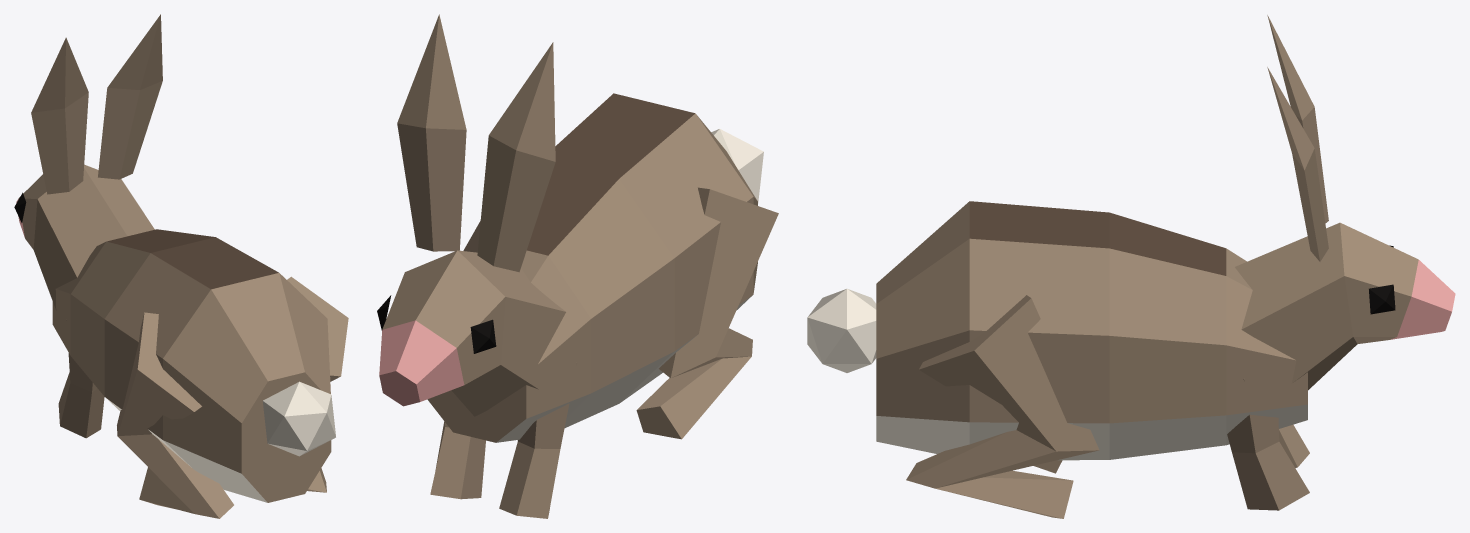
File: rabbit.glb
3 views of the same model, side by side, from view 1: azimuth 30°, elevation 25°; view 2: azimuth 150°, elevation 25°; view 3: azimuth 270°, elevation 25° (orthographic). The views are drawn at different scales.
Parts seen in each view (by area): view 1: Body, Leg_BL, Head, Ear_L, Ear_R, Tail, Leg_FL, Leg_BR; view 2: Body, Head, Leg_BL, Ear_L, Ear_R, Leg_FL, Leg_FR, Tail; view 3: Body, Head, Leg_BR, Leg_FR, Tail, Ear_R, Ear_L, Leg_FL.
Part boxes in pixels (left/top/right/bottom): Body: left=52, top=229, right=331, bottom=502; Leg_BL: left=117, top=312, right=233, bottom=518; Head: left=14, top=164, right=154, bottom=310; Ear_L: left=31, top=37, right=88, bottom=194; Ear_R: left=98, top=14, right=162, bottom=179; Tail: left=262, top=381, right=335, bottom=456; Leg_FL: left=58, top=319, right=104, bottom=438; Leg_BR: left=287, top=276, right=348, bottom=492; Body: left=427, top=93, right=757, bottom=442; Head: left=377, top=250, right=565, bottom=416; Leg_BL: left=636, top=187, right=778, bottom=439; Ear_L: left=477, top=42, right=555, bottom=272; Ear_R: left=397, top=14, right=466, bottom=251; Leg_FL: left=499, top=363, right=577, bottom=518; Leg_FR: left=430, top=421, right=485, bottom=499; Tail: left=711, top=129, right=763, bottom=202; Body: left=876, top=201, right=1307, bottom=460; Head: left=1235, top=222, right=1455, bottom=390; Leg_BR: left=906, top=295, right=1099, bottom=518; Leg_FR: left=1227, top=378, right=1309, bottom=510; Tail: left=807, top=288, right=876, bottom=372; Ear_R: left=1267, top=67, right=1328, bottom=261; Ear_L: left=1267, top=15, right=1328, bottom=223; Leg_FL: left=1279, top=424, right=1309, bottom=467.
Size of the model in its own units: 0.2359 by 0.425 by 0.5555.
